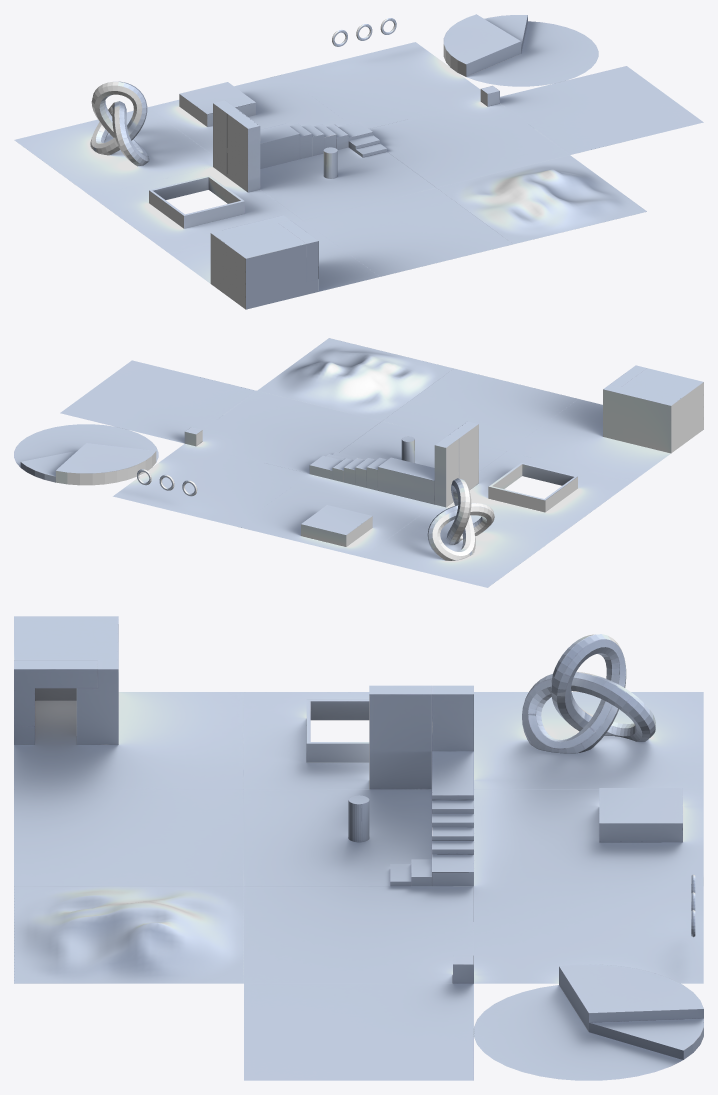
Rendered from world.glb.
3 views of the same model, one above another, from view 1: azimuth 30°, elevation 25°; view 2: azimuth 150°, elevation 25°; view 3: azimuth 270°, elevation 25° (orthographic). The views are drawn at different scales.
Visible parts, largest first — view 1: Plane.004; view 2: Plane.004; view 3: Plane.004.
Boxes of the visible parts, x1,y1,x2,y2 form: Plane.004: (14, 14, 703, 309); Plane.004: (14, 338, 703, 587); Plane.004: (14, 616, 703, 1080).
Bounding box in the file's own units: 44.01 × 6.04 × 33.01.
Materials: 1 (1 with a texture image).
